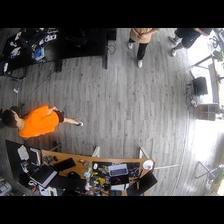normal: (2, 102, 82, 138), (128, 28, 157, 67)
